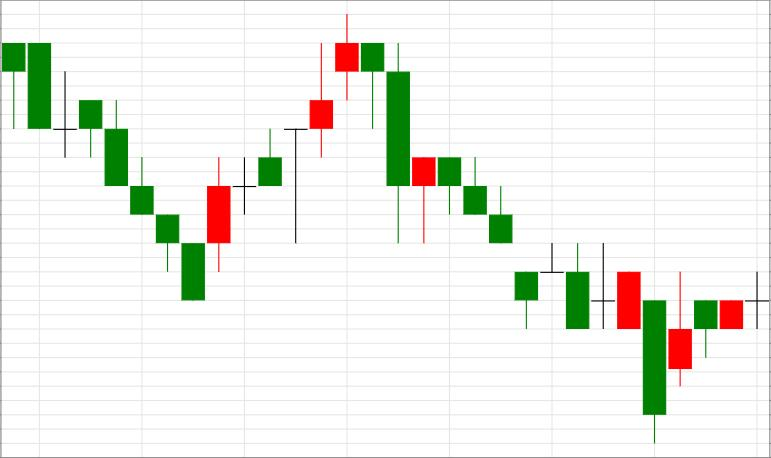hanging_man_fall: (208, 15, 384, 272)
